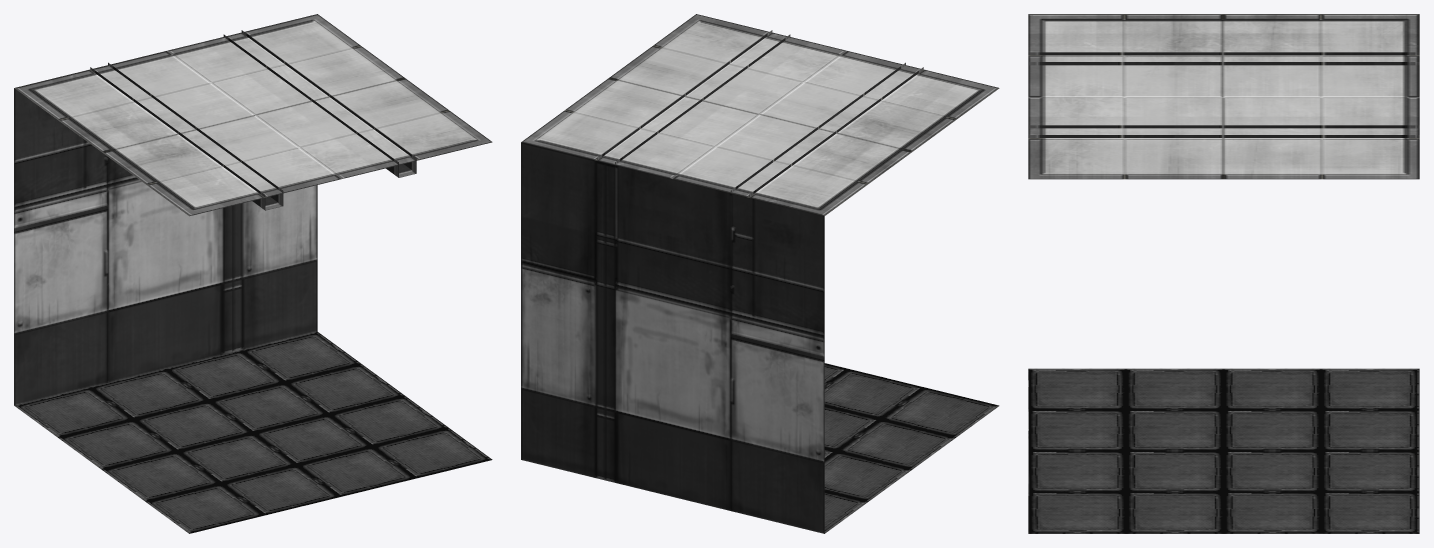
File: CorridorEdge1.fbx
3 renders of one model, left to right at view 1: azimuth 30°, elevation 25°; view 2: azimuth 150°, elevation 25°; view 3: azimuth 270°, elevation 25°, orthographic. The views are drawn at different scales.
Parts seen in each view (by area): view 1: CorridorEdge1; view 2: CorridorEdge1; view 3: CorridorEdge1.
Part boxes in pixels (x1=…): CorridorEdge1: x1=14, y1=14, x2=492, y2=533; CorridorEdge1: x1=521, y1=14, x2=999, y2=533; CorridorEdge1: x1=1028, y1=14, x2=1419, y2=533.
Size of the model in its own units: 5 by 5.04 by 5.
